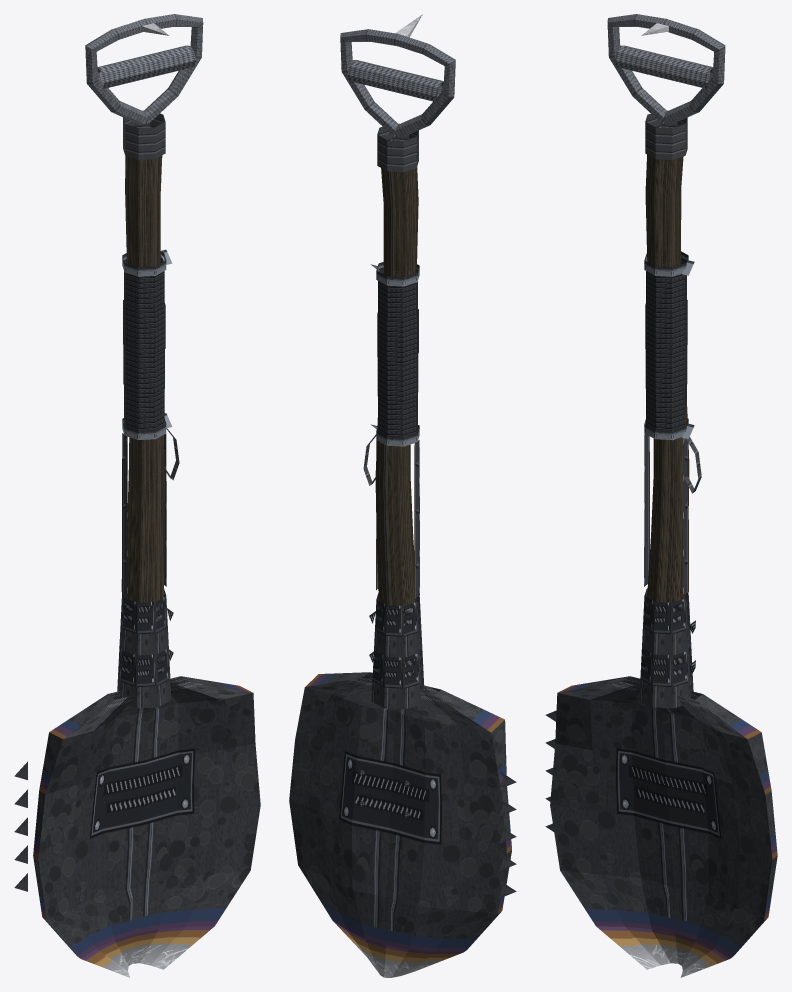
The model's file is Iron_Shovel.fbx.
3 views of the same model, side by side, from view 1: azimuth 30°, elevation 25°; view 2: azimuth 150°, elevation 25°; view 3: azimuth 330°, elevation 25° (orthographic). The views are drawn at different scales.
Visible parts, largest first — view 1: Iron_Shovel; view 2: Iron_Shovel; view 3: Iron_Shovel.
Part boxes in pixels (<box>): Iron_Shovel: <box>14,14,260,977</box>; Iron_Shovel: <box>289,14,516,977</box>; Iron_Shovel: <box>545,14,777,977</box>.
Bounding box in the file's own units: 0.311 × 0.094 × 1.2.
1 material, 1 textured.
